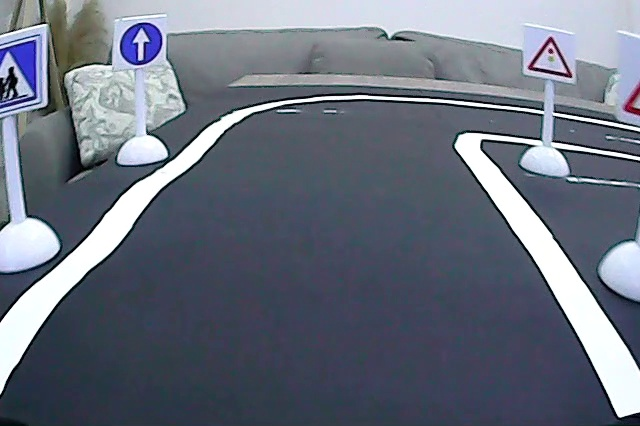red light: (523, 31, 577, 83)
school crossing: (1, 32, 43, 115)
